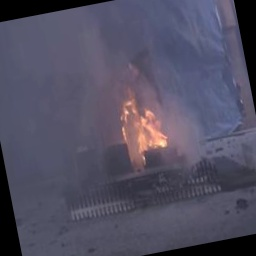fire: (112, 85, 171, 166)
